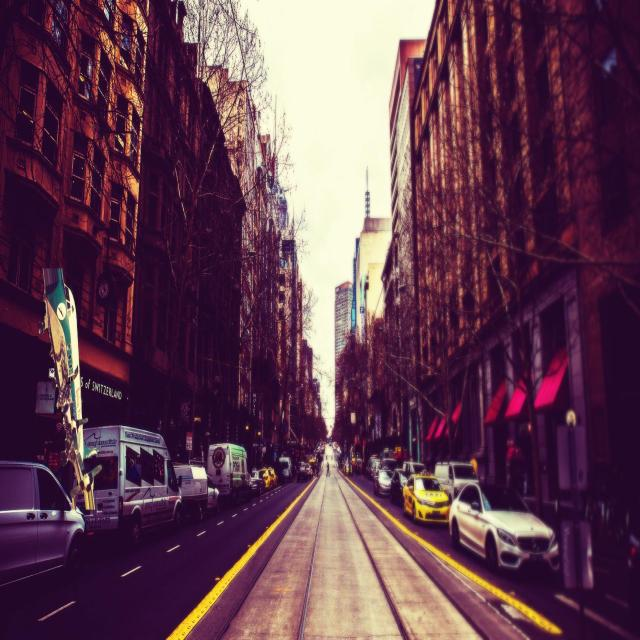airplane: (38, 268, 101, 510)
